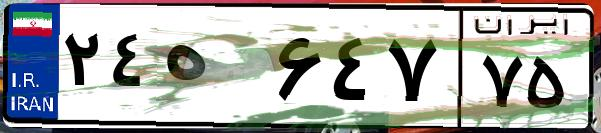2: (57, 26, 110, 100)
4: (330, 28, 385, 110), (110, 28, 158, 98)
5: (525, 38, 570, 115)
6: (270, 28, 330, 110)
7: (385, 28, 445, 110), (475, 38, 525, 113)
ه: (158, 20, 270, 120)
